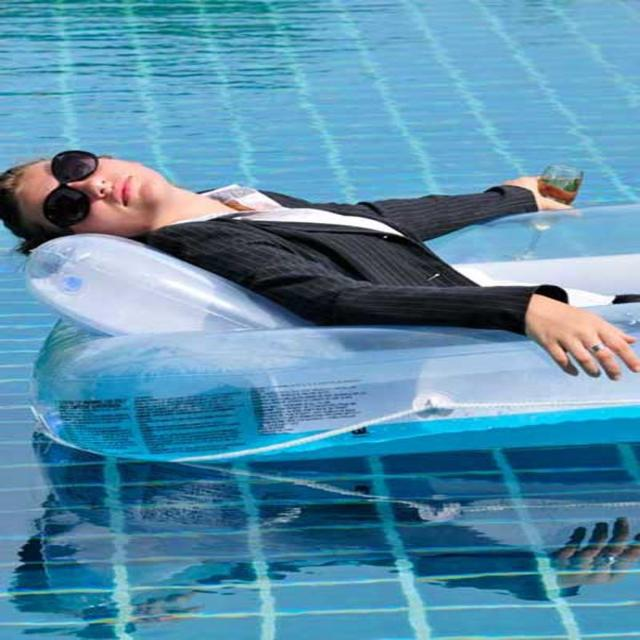Face: (20, 155, 177, 234)
